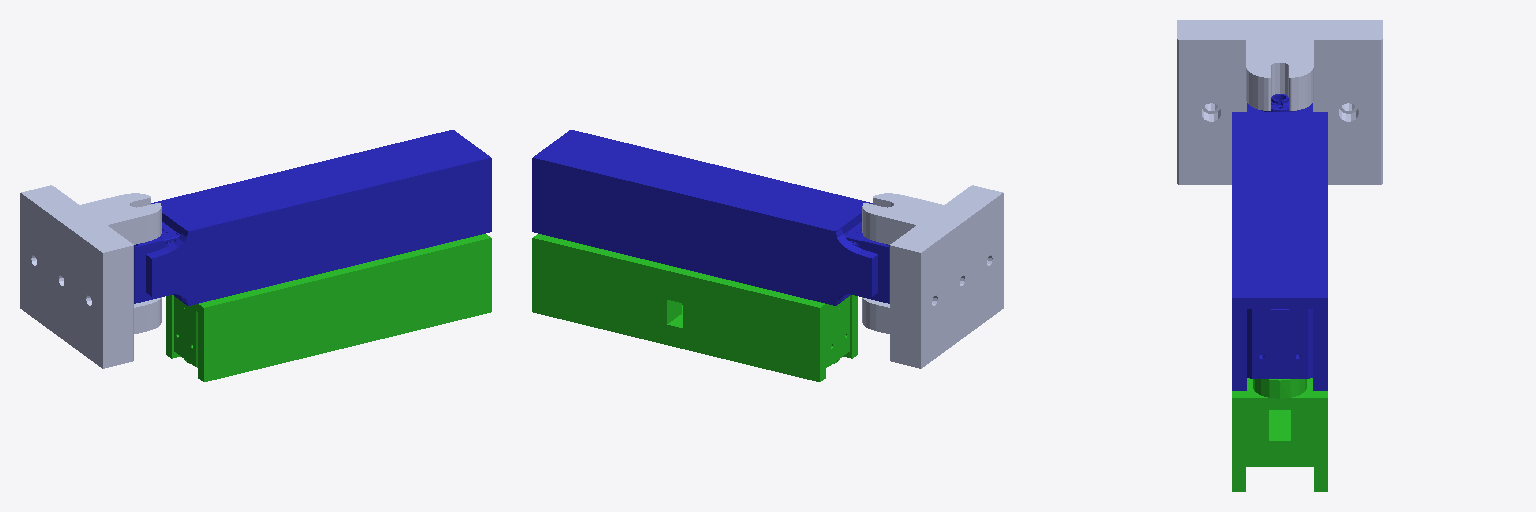
URDF robot description (robot_arm):
<?xml version="1.0" encoding="utf-8"?>
<robot name="robot_arm">

  <!-- Base Link -->
  <link name="base_link">
    <inertial>
      <origin xyz="0.5 -0.05 2.0" rpy="0 0 0"/>
      <mass value="0.15528"/>
      <inertia ixx="0.00016123" ixy="5.798E-12" ixz="-7.8162E-12"
               iyy="0.00011226" iyz="-1.2811E-11" izz="0.00010187"/>
    </inertial>
    <visual>
      <origin xyz="0 0 0" rpy="0 0 0"/>
      <geometry>
        <mesh filename="package://robot_arm_rviz/meshes/base_link.STL"/>
      </geometry>
      <material name="base_gray">
        <color rgba="0.79216 0.81961 0.93333 1"/>
      </material>
    </visual>
    <collision>
      <origin xyz="0 0 0" rpy="0 0 0"/>
      <geometry>
        <mesh filename="package://robot_arm_rviz/meshes/base_link.STL"/>
      </geometry>
    </collision>
  </link>

  <!-- First Link -->
  <link name="one_Link">
    <inertial>
      <origin xyz="-0.10431 -0.014043 9.7653E-10" rpy="0 0 0"/>
      <mass value="0.39391"/>
      <inertia ixx="0.00011321" ixy="7.5644E-06" ixz="-1.5851E-08"
               iyy="0.00084506" iyz="-2.12E-10" izz="0.00084457"/>
    </inertial>
    <visual>
      <origin xyz="0 0 0" rpy="0 0 0"/>
      <geometry>
        <mesh filename="package://robot_arm_rviz/meshes/one_Link.STL"/>
      </geometry>
      <material name="link1_blue">
        <color rgba="0.2 0.2 0.8 1"/>
      </material>
    </visual>
    <collision>
      <origin xyz="0 0 0" rpy="0 0 0"/>
      <geometry>
        <mesh filename="package://robot_arm_rviz/meshes/one_Link.STL"/>
      </geometry>
    </collision>
  </link>

  <!-- First Joint -->
  <joint name="joint1" type="continuous">
    <origin xyz="-0.48381 0.051748 0" rpy="1.5708 0 3.1416"/>
    <parent link="base_link"/>
    <child link="one_Link"/>
    <axis xyz="0 1 0"/>
  </joint>

  <!-- Second Link -->
  <link name="two_Link">
    <inertial>
      <origin xyz="0.00010564 0.086252 0.030414" rpy="0 0 0"/>
      <mass value="0.29777"/>
      <inertia ixx="0.00057563" ixy="-8.9808E-08" ixz="-1.1134E-07"
               iyy="9.7476E-05" iyz="-6.0541E-06" izz="0.00057233"/>
    </inertial>
    <visual>
      <origin xyz="0 0 0" rpy="0 0 0"/>
      <geometry>
        <mesh filename="package://robot_arm_rviz/meshes/two_Link.STL"/>
      </geometry>
      <material name="link2_green">
        <color rgba="0.2 0.8 0.2 1"/>
      </material>
    </visual>
    <collision>
      <origin xyz="0 0 0" rpy="0 0 0"/>
      <geometry>
        <mesh filename="package://robot_arm_rviz/meshes/two_Link.STL"/>
      </geometry>
    </collision>
  </link>

  <!-- Second Joint -->
  <joint name="joint2" type="continuous">
    <origin xyz="-0.2005 -0.031301 0" rpy="1.5708 1.5708 0"/>
    <parent link="one_Link"/>
    <child link="two_Link"/>
    <axis xyz="0 0 1"/>
  </joint>

</robot>

--- Facts derived from the render (not from the file) ---
3 views of the same robot in one strip: view 1: azimuth 30°, elevation 25°; view 2: azimuth 150°, elevation 25°; view 3: azimuth 270°, elevation 25° (orthographic).
Model robot_arm with 3 links and 2 joints (2 continuous), rooted at base_link, posed every joint at zero.
Links seen in each view (by area): view 1: one_Link, two_Link, base_link; view 2: one_Link, two_Link, base_link; view 3: base_link, one_Link, two_Link.
Link boxes in pixels (box(x1,y1,x2,y2)): one_Link: box(134, 130, 491, 305); two_Link: box(166, 234, 491, 381); base_link: box(20, 185, 161, 368); one_Link: box(532, 130, 889, 305); two_Link: box(532, 234, 857, 381); base_link: box(862, 185, 1003, 368); base_link: box(1177, 20, 1382, 184); one_Link: box(1232, 94, 1327, 390); two_Link: box(1232, 378, 1327, 491).
Size in the robot's own frame: 0.26 by 0.09 by 0.106 metres.
Meshes: 3 distinct files referenced, 3 mesh visuals loaded (3 binary STL).